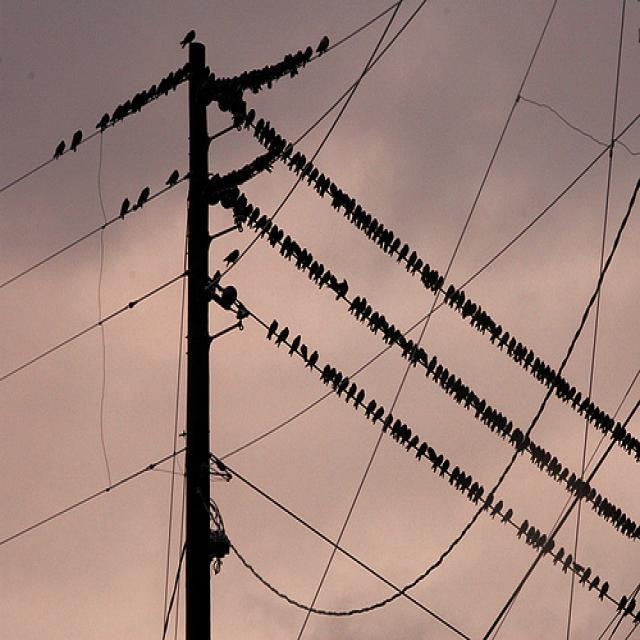pole: (184, 40, 220, 635)
wire: (214, 178, 640, 618), (296, 0, 560, 640), (215, 273, 640, 623), (224, 110, 640, 461), (237, 199, 640, 538), (247, 113, 640, 457), (219, 0, 405, 280), (214, 452, 472, 640), (565, 0, 628, 638), (485, 398, 638, 638), (0, 71, 190, 193), (1, 267, 181, 380), (2, 441, 184, 548), (297, 0, 430, 146), (248, 0, 405, 93), (162, 219, 189, 628), (0, 215, 125, 288), (125, 175, 189, 215)
